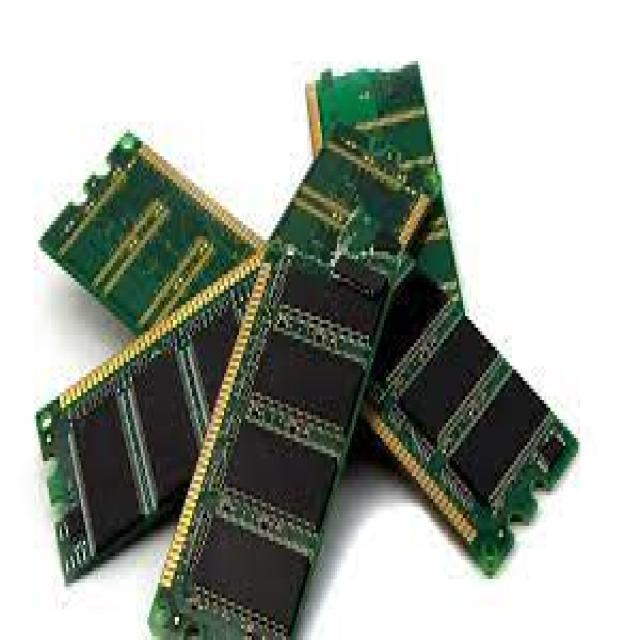Ram: (22, 75, 568, 577)
